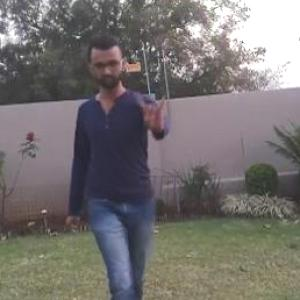takeoff-hand: (132, 84, 176, 137)
